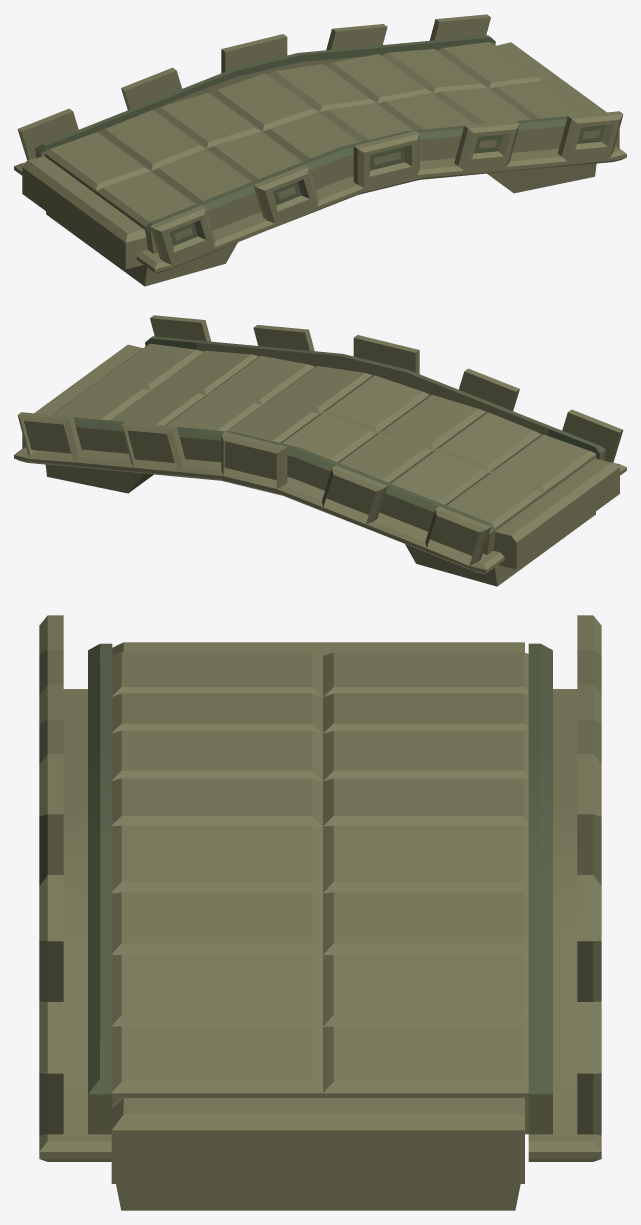
The model's file is Rock_bridge04.fbx.
3 renders of one model, top to bottom at view 1: azimuth 30°, elevation 25°; view 2: azimuth 150°, elevation 25°; view 3: azimuth 270°, elevation 25°, orthographic. The views are drawn at different scales.
Visible parts, largest first — view 1: bridge5_main, brigde5_decor, brigde5_decor_back, bridge5_pilar; view 2: bridge5_main, brigde5_decor_back, brigde5_decor, bridge5_pilar; view 3: bridge5_main, bridge5_pilar, brigde5_decor_back, brigde5_decor.
Boxes of the visible parts, bbox=[...] form: bridge5_main: bbox=[44, 42, 587, 229]; brigde5_decor: bbox=[136, 111, 626, 273]; brigde5_decor_back: bbox=[14, 14, 495, 175]; bridge5_pilar: bbox=[22, 42, 619, 286]; bridge5_main: bbox=[52, 343, 596, 530]; brigde5_decor_back: bbox=[14, 412, 504, 574]; brigde5_decor: bbox=[145, 315, 626, 475]; bridge5_pilar: bbox=[22, 344, 619, 586]; bridge5_main: bbox=[112, 652, 528, 1134]; bridge5_pilar: bbox=[111, 642, 524, 1210]; brigde5_decor_back: bbox=[528, 615, 601, 1161]; brigde5_decor: bbox=[39, 615, 112, 1161].
Size of the model in its own units: 16.13 by 3.23 by 7.95.
